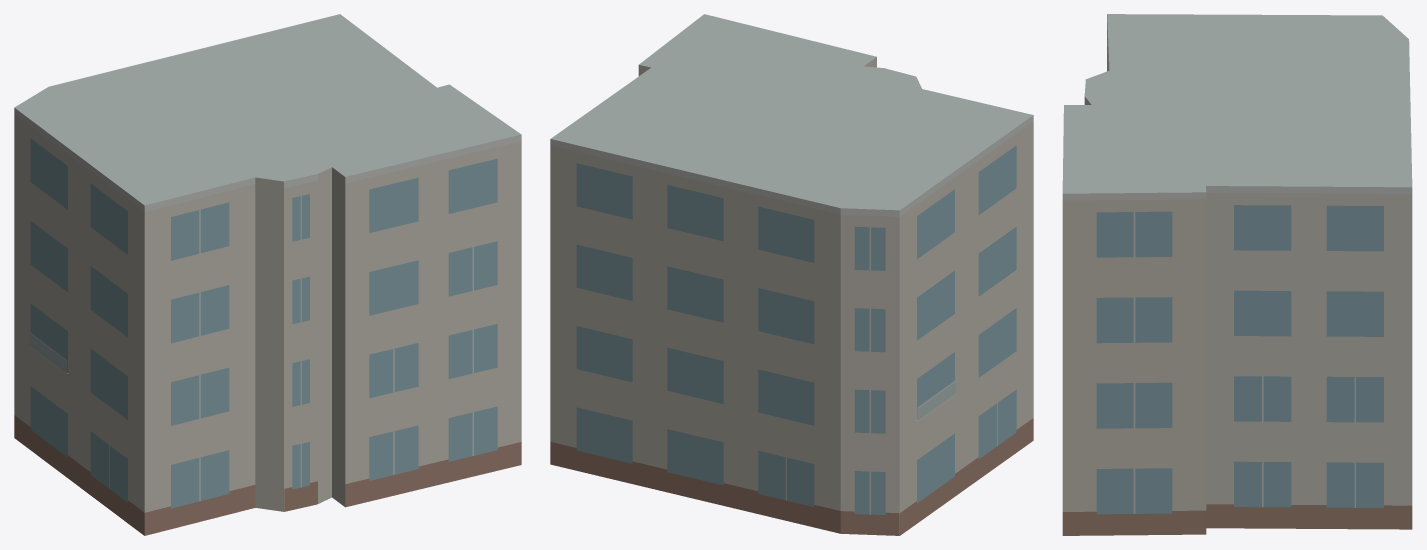
Rendered from survey-upis-32626894.glb.
3 renders of one model, left to right at view 1: azimuth 30°, elevation 25°; view 2: azimuth 150°, elevation 25°; view 3: azimuth 270°, elevation 25°, orthographic. The views are drawn at different scales.
Visible parts, largest first — view 1: survey-upis-32626894.tmp; view 2: survey-upis-32626894.tmp; view 3: survey-upis-32626894.tmp.
Part boxes in pixels (x1,y1,x2,y2): survey-upis-32626894.tmp: [14, 14, 521, 535]; survey-upis-32626894.tmp: [550, 14, 1033, 535]; survey-upis-32626894.tmp: [1062, 14, 1412, 535].
Size of the model in its own units: 13.86 by 12.3 by 11.41.
